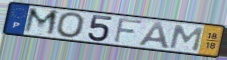5: (86, 13, 115, 42)
A: (136, 21, 171, 50)
F: (112, 17, 145, 44)
M: (22, 6, 61, 38), (168, 24, 205, 53)
O: (55, 11, 87, 39)
